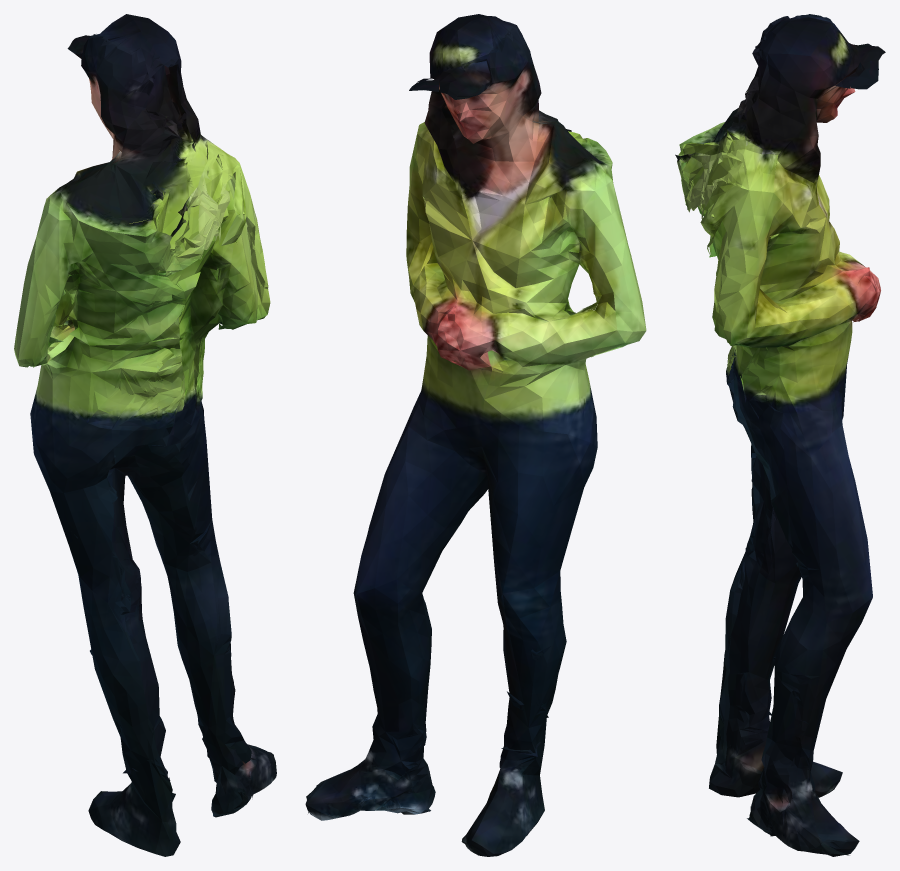
The picture shows the model from 3 angles, left to right: view 1: azimuth 30°, elevation 25°; view 2: azimuth 150°, elevation 25°; view 3: azimuth 270°, elevation 25°; orthographic projection. The views are drawn at different scales.
Parts seen in each view (by area): view 1: dec_0009; view 2: dec_0009; view 3: dec_0009.
Part boxes in pixels (x1,y1,x2,y2): dec_0009: [14, 14, 276, 856]; dec_0009: [305, 14, 646, 856]; dec_0009: [675, 14, 885, 856].
Size of the model in its own units: 0.6771 by 1.77 by 0.434.
1 material, 1 textured.
